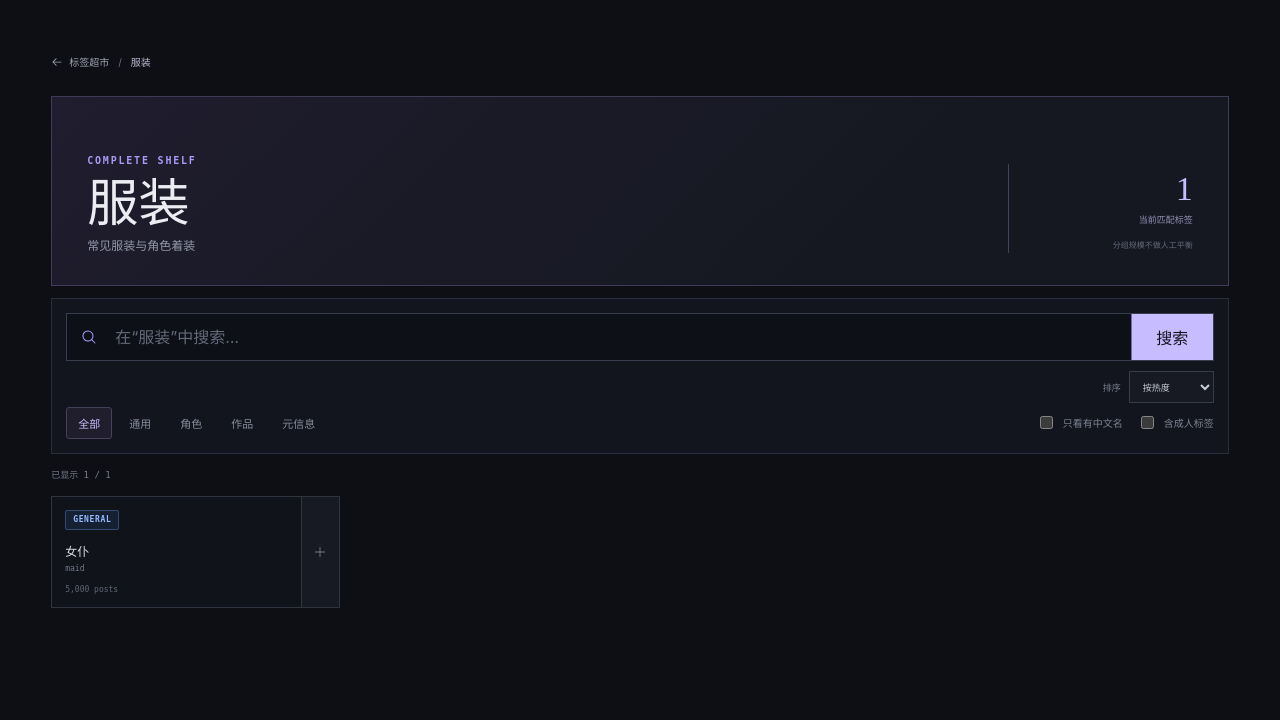
opens a complete shelf and preserves its basket selection on tag details
The image size is (1280, 720).
Expected: the heading "服装" is shown, [87,178,197,229]
Click the button named "选择 女仆" at (320, 552), box [301,497,339,607]
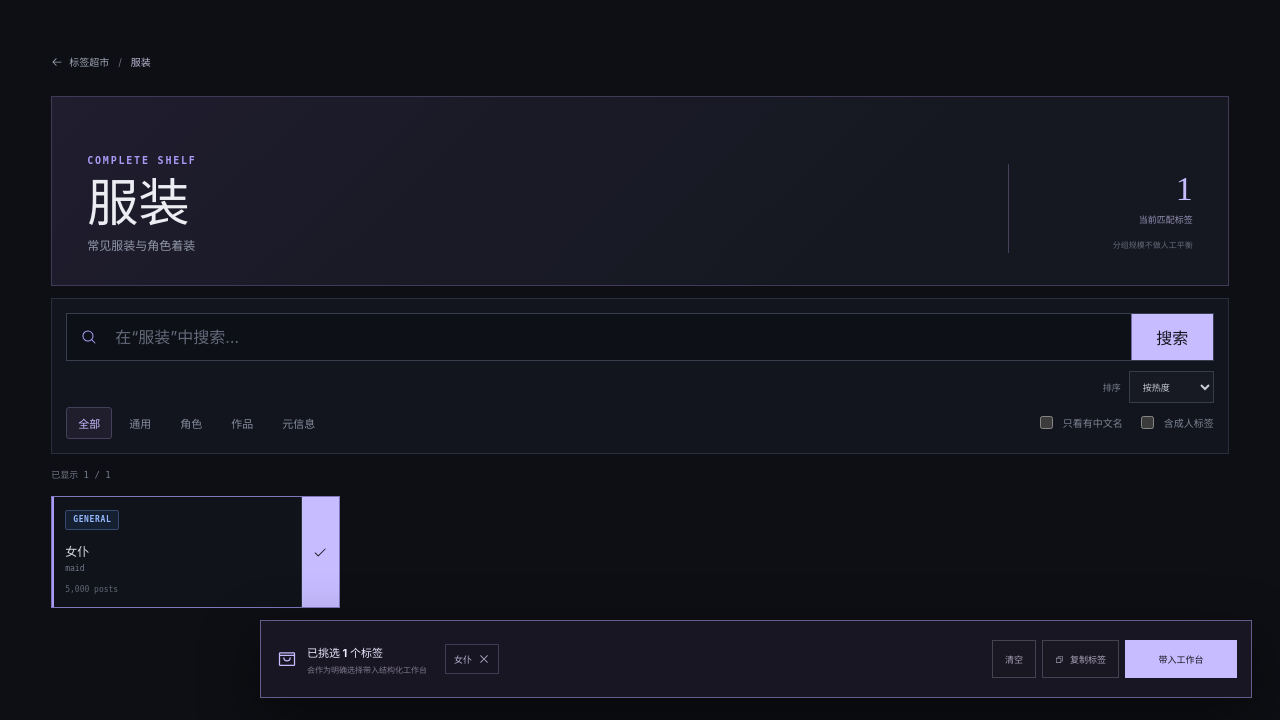
Click the link "General 女仆 maid 5,000 posts" at (92, 520), box [65,510,119,594]
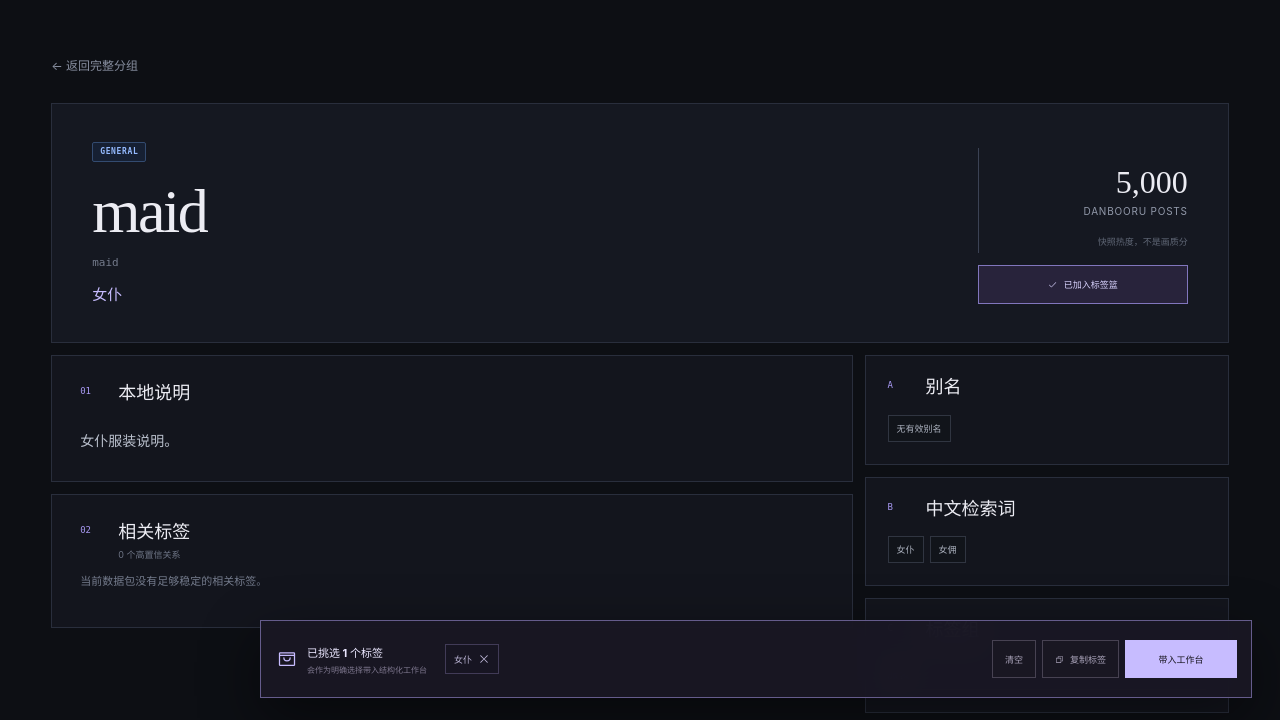
Now the text "女仆服装说明。" is shown, box [80,432,178,448]
Now the button "已加入标签篮" is shown, box [978,265,1188,304]
